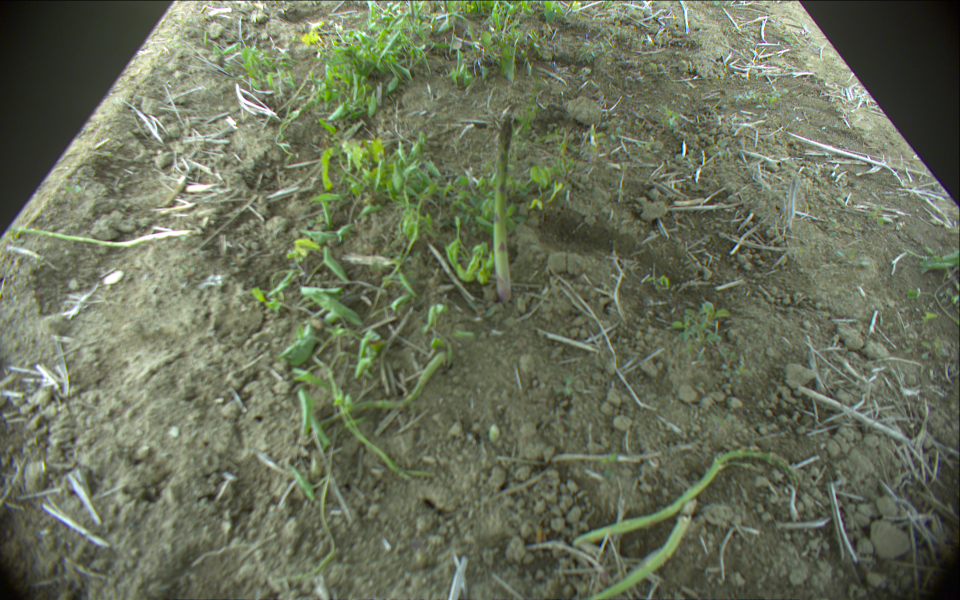aspa: (570, 448, 801, 548), (590, 498, 699, 600), (321, 351, 449, 425), (491, 105, 518, 301), (15, 225, 191, 247)
